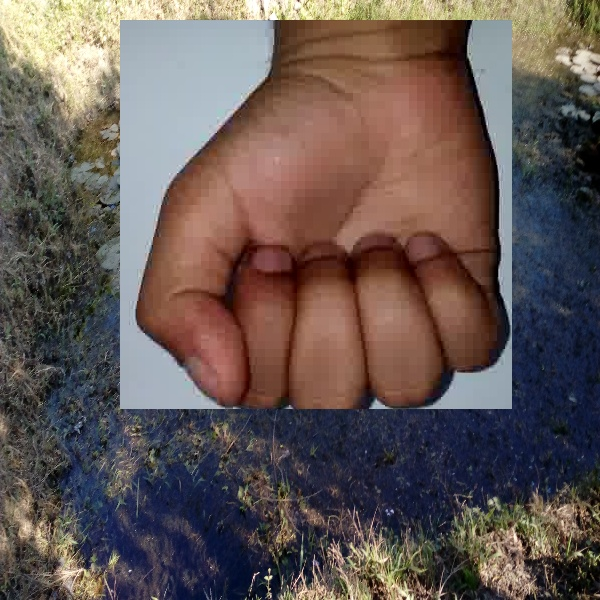A: (120, 20, 512, 409)
